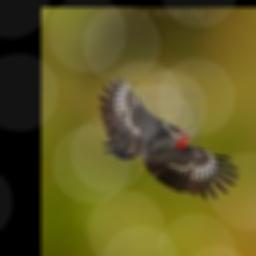Woodpecker: (98, 73, 241, 200)
